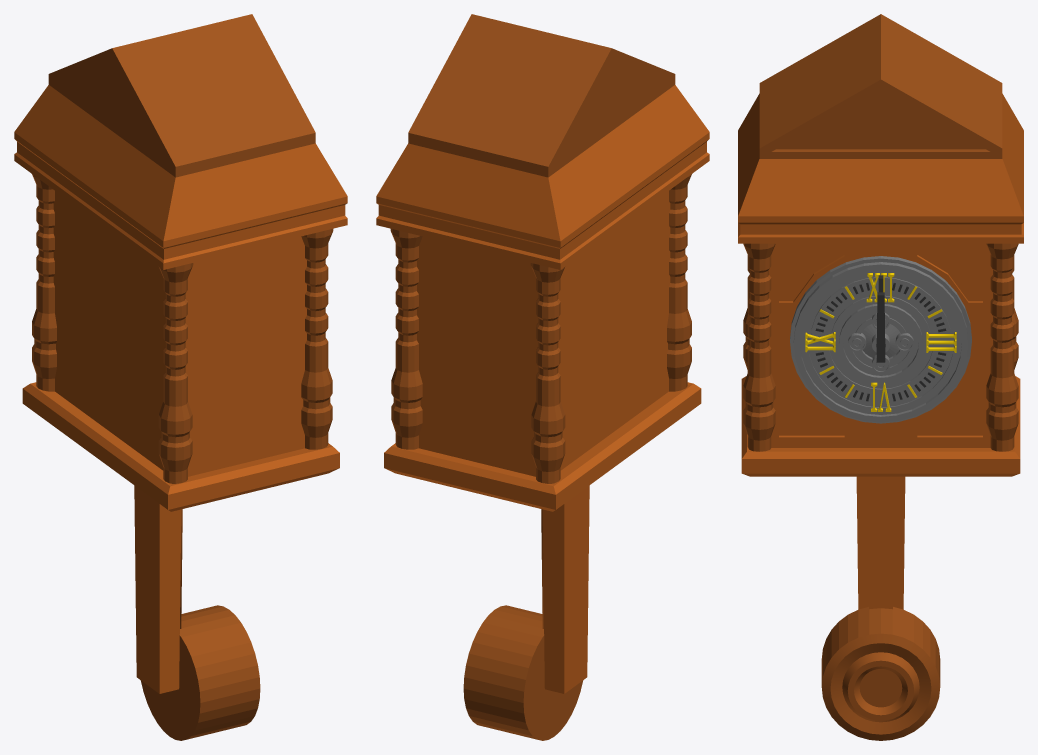
The model's file is Clock_inga_highpoly.fbx.
The picture shows the model from 3 angles, left to right: view 1: azimuth 30°, elevation 25°; view 2: azimuth 150°, elevation 25°; view 3: azimuth 270°, elevation 25°; orthographic projection. The views are drawn at different scales.
Visible parts, largest first — view 1: Clock_house, Clock_houseroof, Clock_houseedge, Clock_inga2, Clock_inga; view 2: Clock_house, Clock_houseroof, Clock_houseedge, Clock_inga2, Clock_inga; view 3: Clock_house, Clock_houseroof, Clock_face, Clock_inga2, Clock_houseedge, Clock_inga, Clock_numbers, Clock_seconds, Hour_line.
Boxes of the visible parts, left/top/right/bottom form: Clock_house: left=14, top=85, right=347, bottom=511; Clock_houseroof: left=48, top=14, right=315, bottom=177; Clock_houseedge: left=32, top=174, right=333, bottom=483; Clock_inga2: left=140, top=605, right=260, bottom=740; Clock_inga: left=134, top=485, right=182, bottom=693; Clock_house: left=376, top=85, right=709, bottom=511; Clock_houseroof: left=408, top=14, right=675, bottom=177; Clock_houseedge: left=390, top=174, right=691, bottom=483; Clock_inga2: left=463, top=605, right=583, bottom=740; Clock_inga: left=541, top=485, right=589, bottom=693; Clock_house: left=738, top=93, right=1023, bottom=476; Clock_houseroof: left=759, top=14, right=1002, bottom=158; Clock_face: left=790, top=256, right=971, bottom=423; Clock_inga2: left=821, top=607, right=940, bottom=740; Clock_houseedge: left=743, top=243, right=1018, bottom=451; Clock_inga: left=856, top=476, right=905, bottom=609; Clock_numbers: left=805, top=273, right=956, bottom=411; Clock_seconds: left=815, top=283, right=946, bottom=401; Hour_line: left=876, top=292, right=885, bottom=362.
Size of the model in its own units: 258 by 851 by 328.
